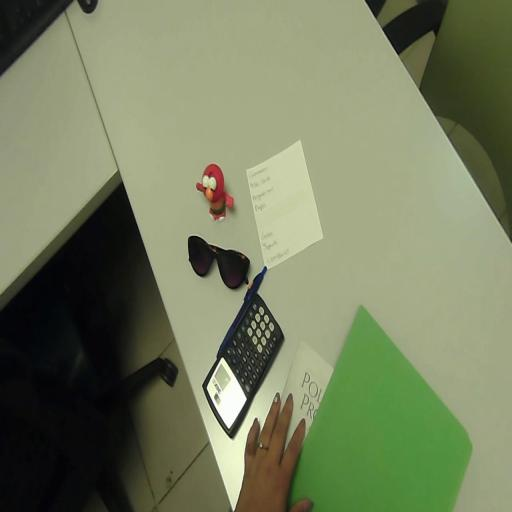pen: (217, 267, 267, 356)
